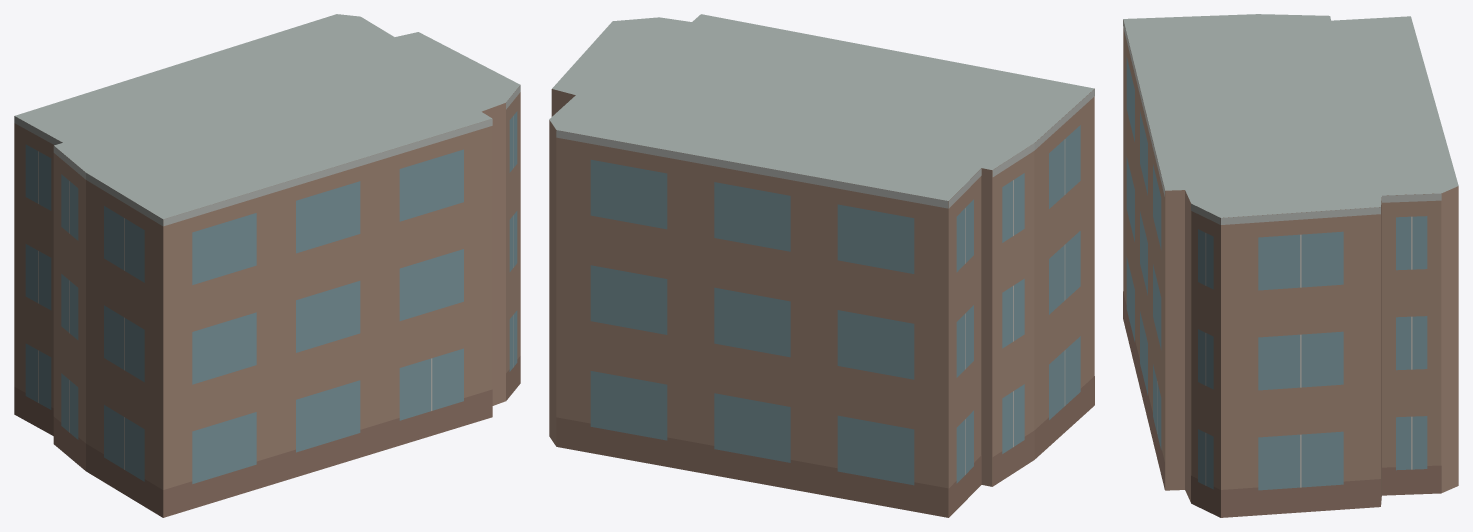
Rendered from survey-upis-32926295.glb.
3 views of the same model, side by side, from view 1: azimuth 30°, elevation 25°; view 2: azimuth 150°, elevation 25°; view 3: azimuth 270°, elevation 25° (orthographic). The views are drawn at different scales.
Visible parts, largest first — view 1: survey-upis-32926295.tmp; view 2: survey-upis-32926295.tmp; view 3: survey-upis-32926295.tmp.
Boxes of the visible parts, bbox=[...] form: survey-upis-32926295.tmp: bbox=[14, 14, 520, 517]; survey-upis-32926295.tmp: bbox=[549, 14, 1094, 517]; survey-upis-32926295.tmp: bbox=[1123, 14, 1458, 517].
Size of the model in its own units: 14.88 by 10.2 by 10.35.
